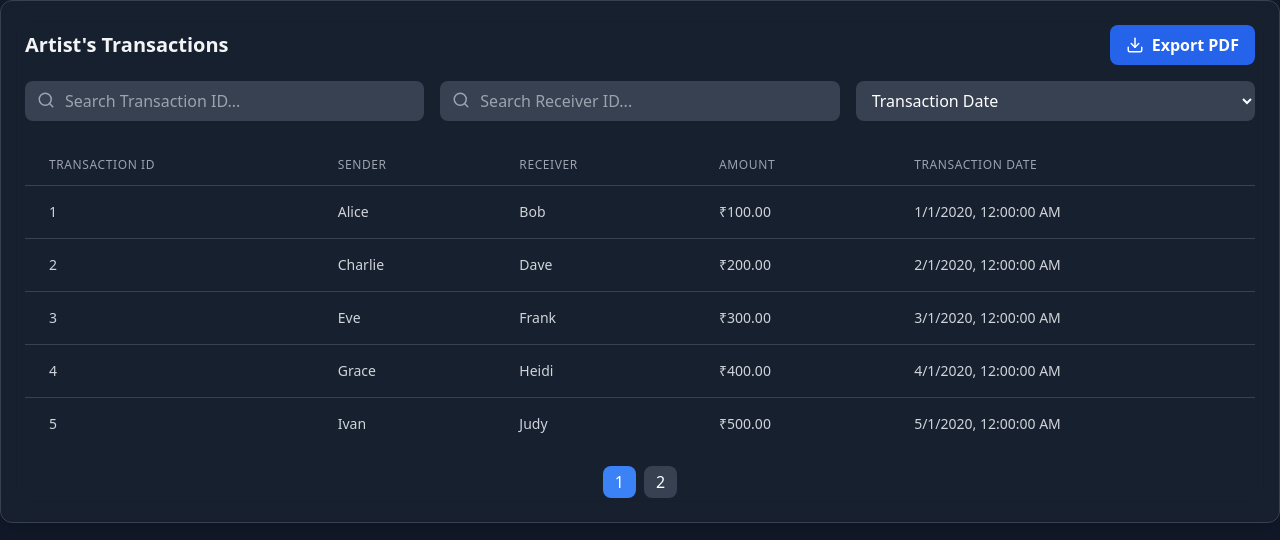
ArtistsTrans Component › handles pagination correctly
The image size is (1280, 540).
Expected: the heading "Artist's Transactions" is shown, [25,31,229,59]
Expected: the text "6" is not shown
# Click on the pagination button for page 2.
Click the button "2". click: (661, 482)
box: [644,466,677,498]
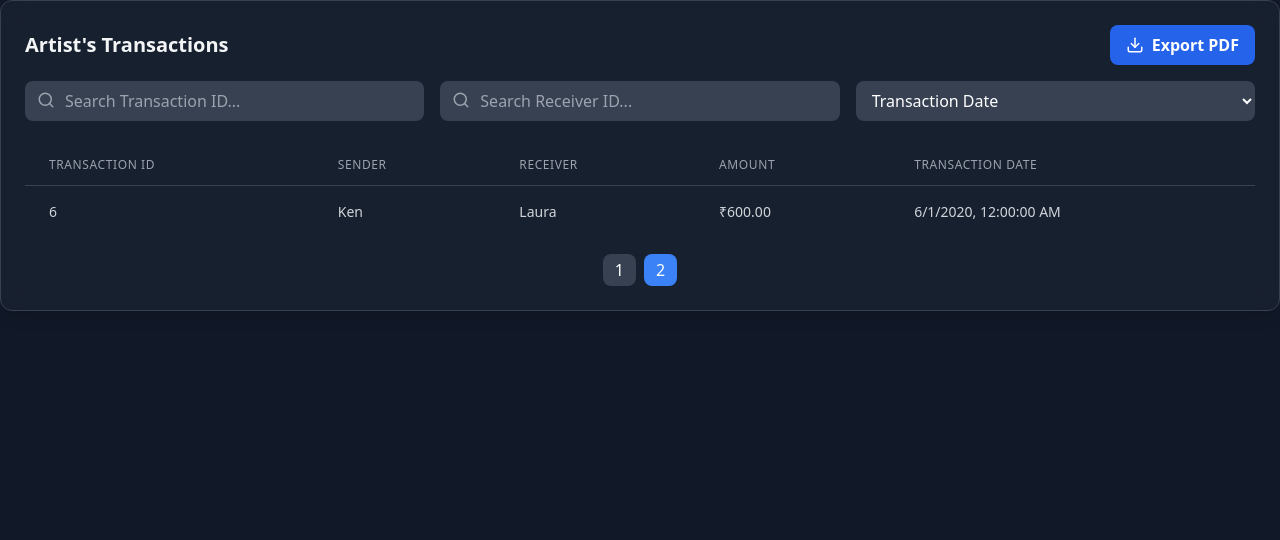
Result: the text "6" is shown at [25,186,314,238]
